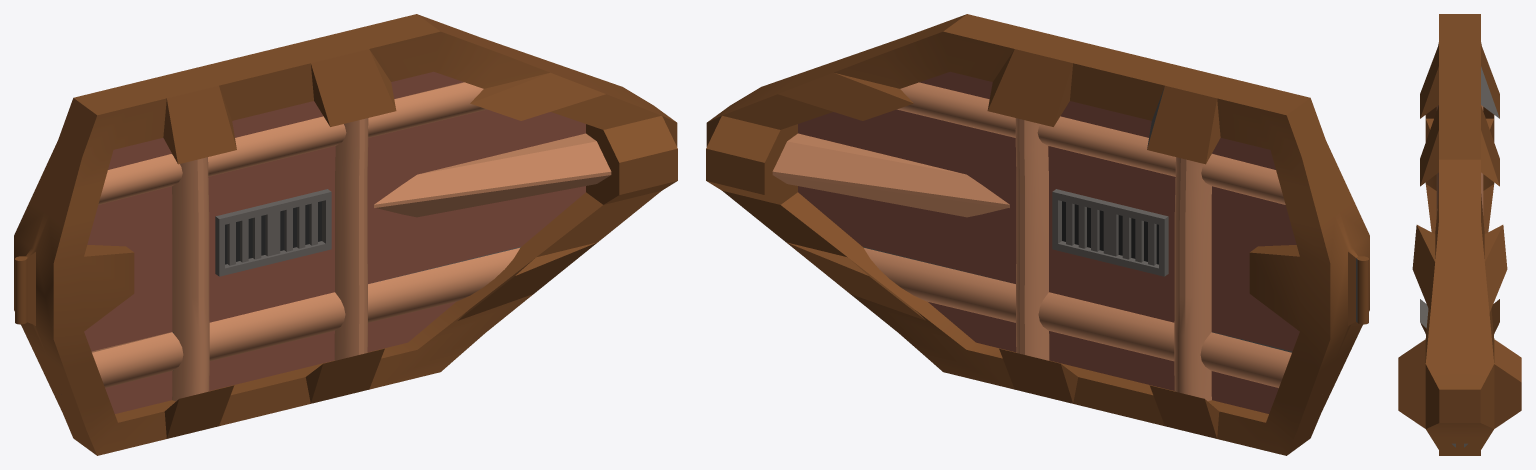
The model's file is Eind Gedeelte Staart.fbx.
3 renders of one model, left to right at view 1: azimuth 30°, elevation 25°; view 2: azimuth 150°, elevation 25°; view 3: azimuth 270°, elevation 25°, orthographic. The views are drawn at different scales.
Parts seen in each view (by area): view 1: Staart einde.001; view 2: Staart einde.001; view 3: Staart einde.001.
Boxes of the visible parts, x1,y1,x2,y2 form: Staart einde.001: (14,14,677,455); Staart einde.001: (706,14,1369,455); Staart einde.001: (1398,14,1521,455).
Bounding box in the file's own units: 1713 × 858 × 324.
